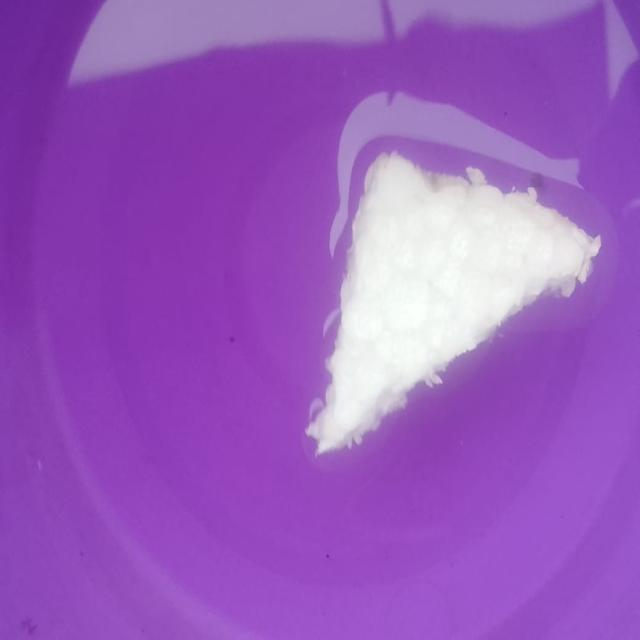thermocoal: (318, 136, 604, 463)
